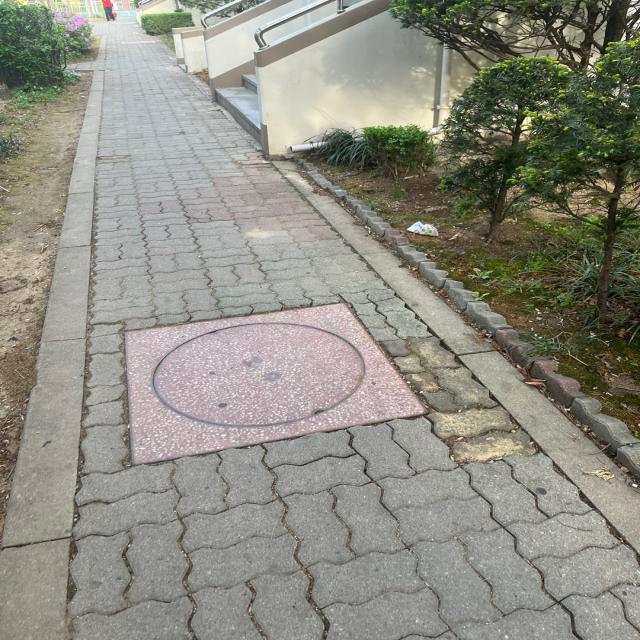Sewer Cover: (105, 293, 431, 471)
